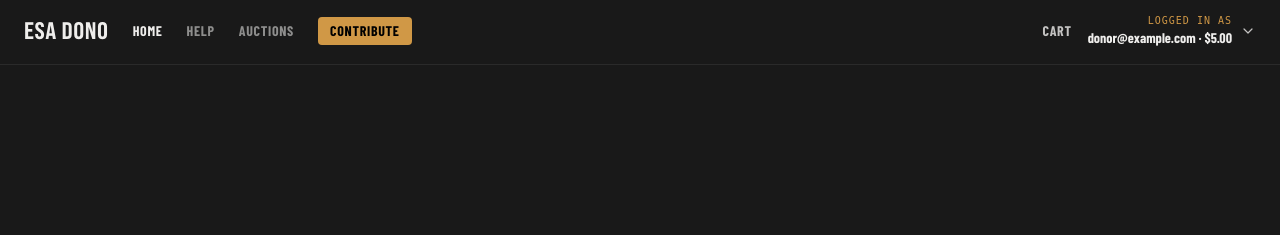
Scenario: Navbar › shows both moderate and admin for an ADMIN donor
Click the text "donor@example.com · $5.00". click: (1160,38)
box: [1088, 28, 1232, 48]
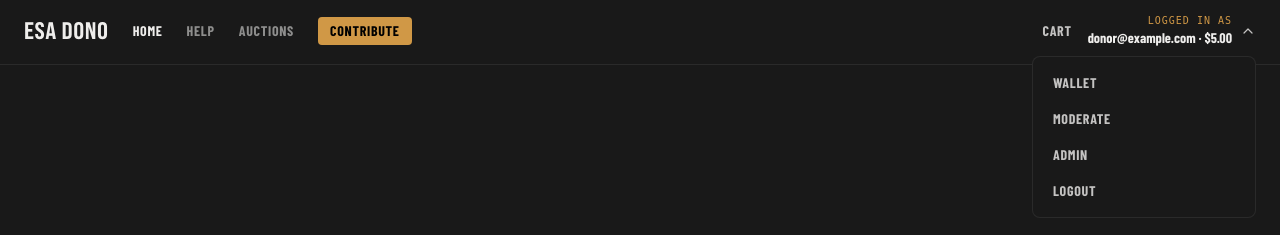
Expected: the link "moderate" is shown, [1053, 110, 1111, 126]
Expected: the link "admin" is shown, [1053, 146, 1088, 162]
